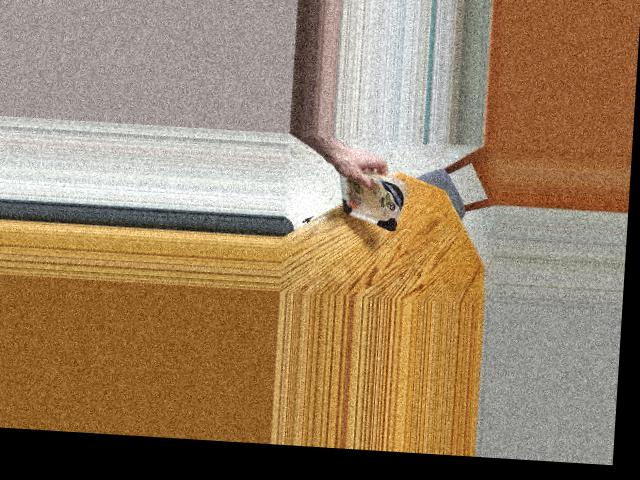cheese: (333, 171, 410, 225)
